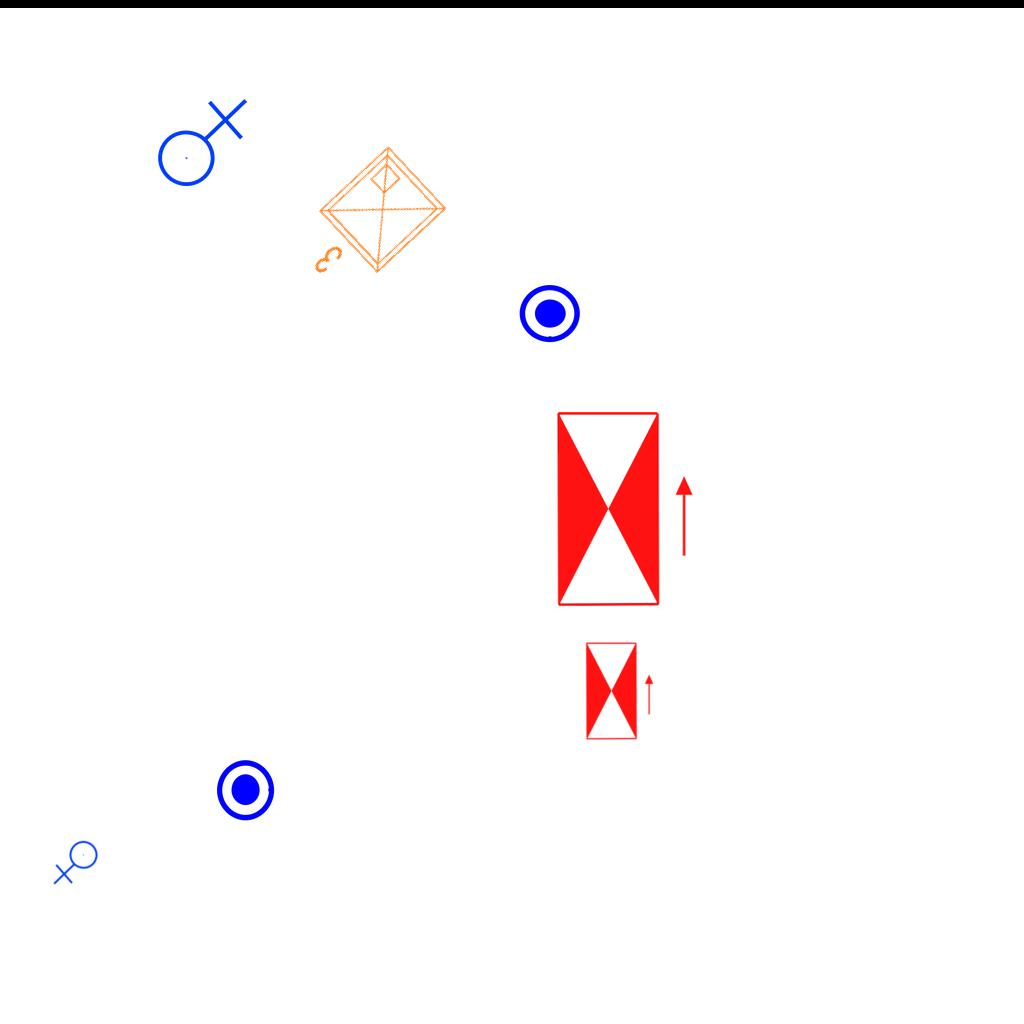Einbaudownlights_LED_Konferenzraeume: (278, 135, 460, 315)
Elektroanschluss_allgemein_230V_Geraeteanschlussdose_230V: (149, 94, 248, 188), (53, 840, 102, 887)
Fluchtwegpiktogramm: (551, 405, 698, 613), (583, 639, 656, 743)
Taster: (215, 757, 281, 823), (517, 283, 583, 349)
